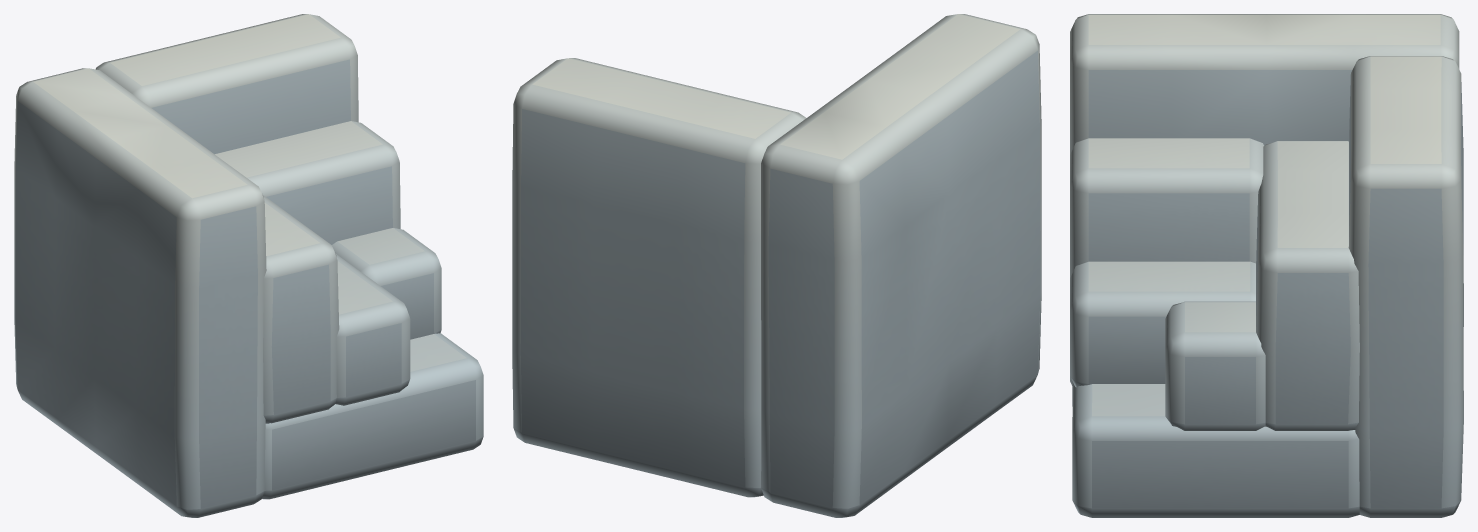
File: Quartz_Plain_Stair_Inner.fbx
The picture shows the model from 3 angles, left to right: view 1: azimuth 30°, elevation 25°; view 2: azimuth 150°, elevation 25°; view 3: azimuth 270°, elevation 25°; orthographic projection. The views are drawn at different scales.
Visible parts, largest first — view 1: Quartz_Plain_Stair_Inner_LOD0; view 2: Quartz_Plain_Stair_Inner_LOD0; view 3: Quartz_Plain_Stair_Inner_LOD0.
Boxes of the visible parts, x1,y1,x2,y2 form: Quartz_Plain_Stair_Inner_LOD0: [14, 14, 483, 517]; Quartz_Plain_Stair_Inner_LOD0: [512, 14, 1041, 517]; Quartz_Plain_Stair_Inner_LOD0: [1070, 14, 1463, 517].
Size of what is drawn, in the model's own units: 1.06 by 1.05 by 1.06.
